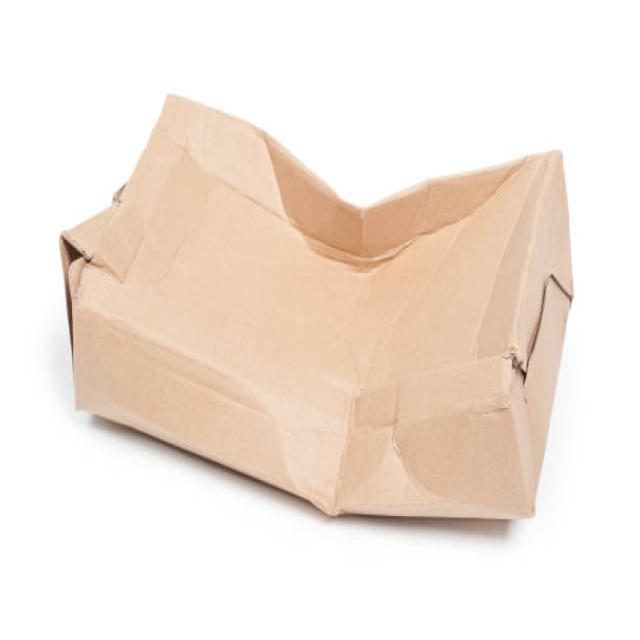box: (56, 90, 573, 525)
crushed: (252, 354, 443, 520), (258, 125, 433, 275)
